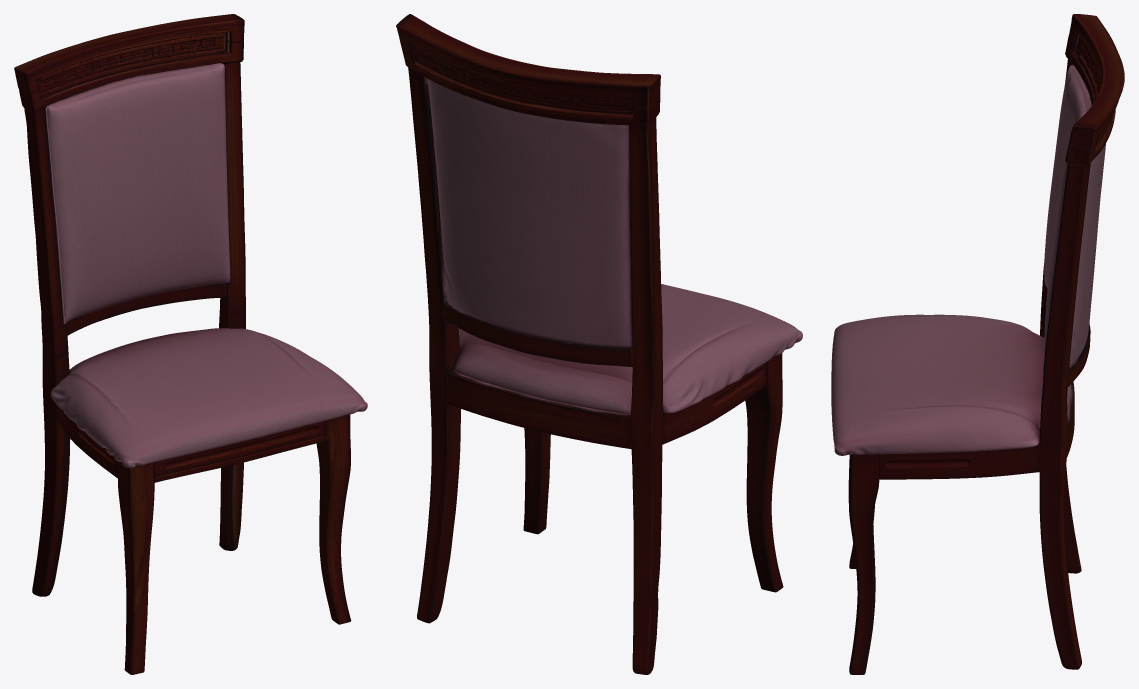
Rendered from Versal2.glb.
3 views of the same model, side by side, from view 1: azimuth 30°, elevation 25°; view 2: azimuth 150°, elevation 25°; view 3: azimuth 270°, elevation 25° (orthographic). The views are drawn at different scales.
Parts seen in each view (by area): view 1: tripo_node_b8461f1e-8990-44c2-a885-4be6735ed5d5; view 2: tripo_node_b8461f1e-8990-44c2-a885-4be6735ed5d5; view 3: tripo_node_b8461f1e-8990-44c2-a885-4be6735ed5d5.
Boxes of the visible parts, bbox=[...] form: tripo_node_b8461f1e-8990-44c2-a885-4be6735ed5d5: bbox=[14, 14, 367, 674]; tripo_node_b8461f1e-8990-44c2-a885-4be6735ed5d5: bbox=[396, 14, 802, 674]; tripo_node_b8461f1e-8990-44c2-a885-4be6735ed5d5: bbox=[831, 14, 1124, 674].
Bounding box in the file's own units: 0.4761 × 0.9789 × 0.4742.
1 material, 1 textured.
